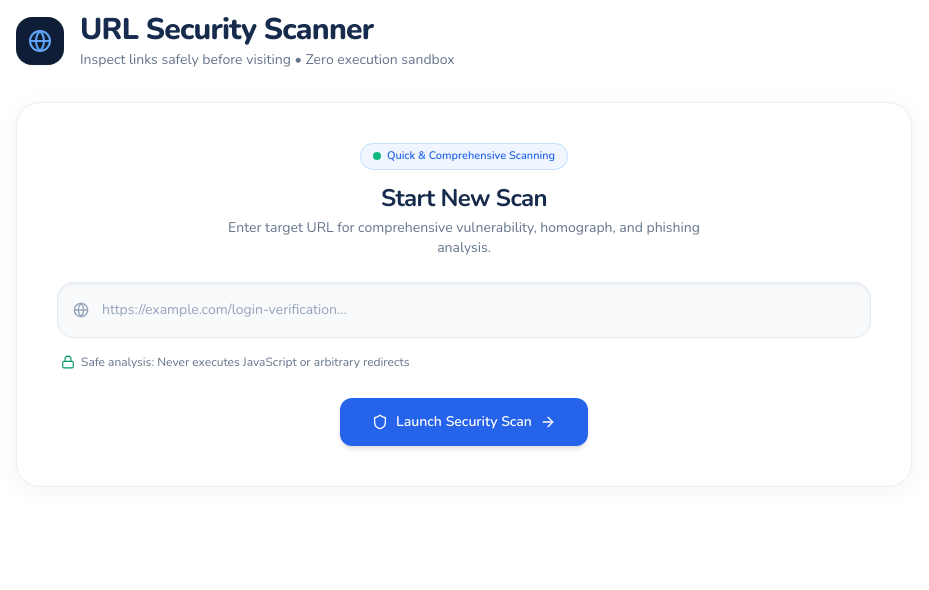
Test: UrlScannerPage Component › renders URL input field and shows validation error on empty submission
Expected: the field with placeholder "https://example.com/login-verification..." is shown, [57,282,871,338]
What coordinates should you click on to do the following:
click the button "Launch Security Scan"
I would click on:
 (464, 422)
Its box is [340,398,588,446].
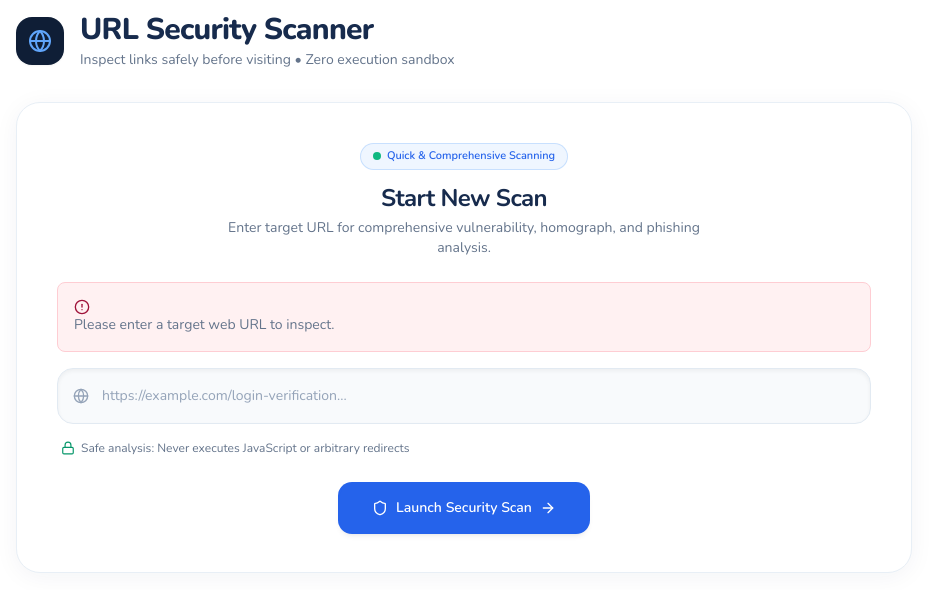
Expected: the text "Please enter a target web URL to inspect." is shown, [74,314,335,334]
